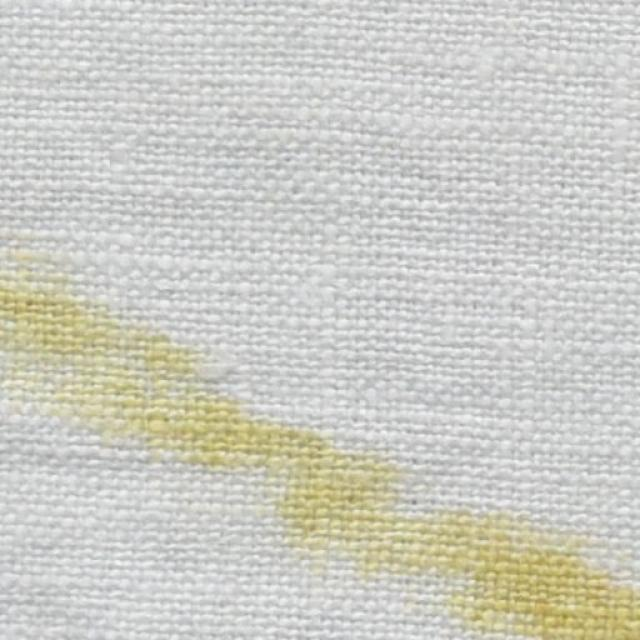Stain: (0, 248, 639, 639)
